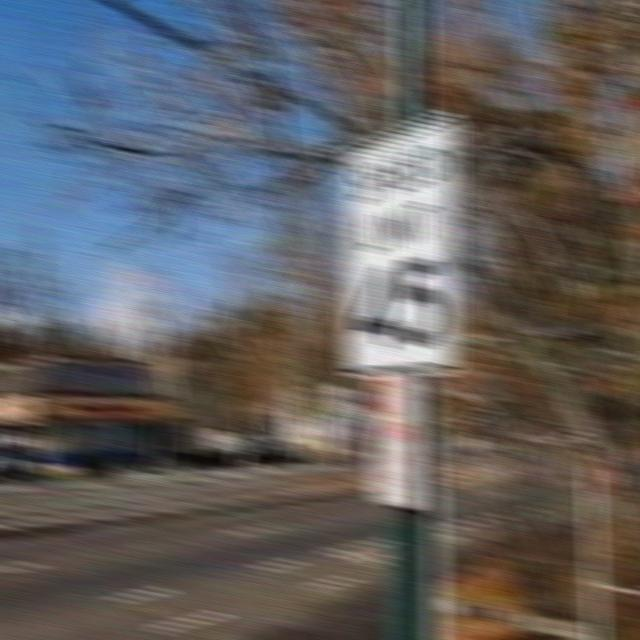speedLimit45: (339, 110, 471, 384)
